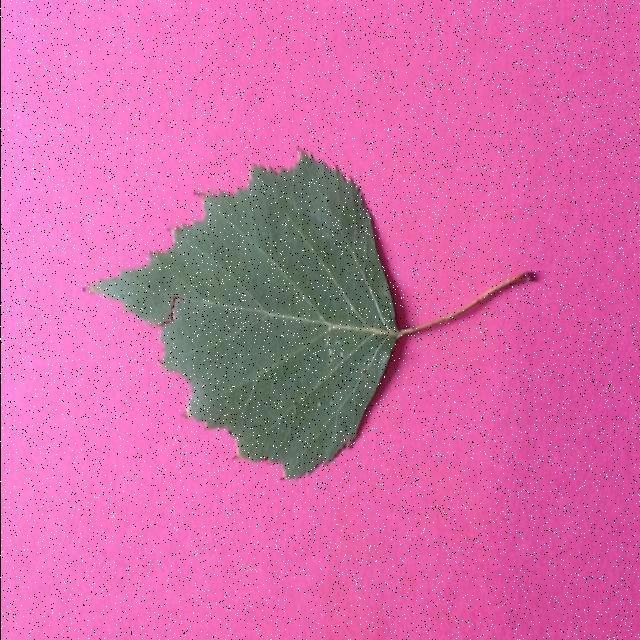foliage: (77, 144, 539, 487)
